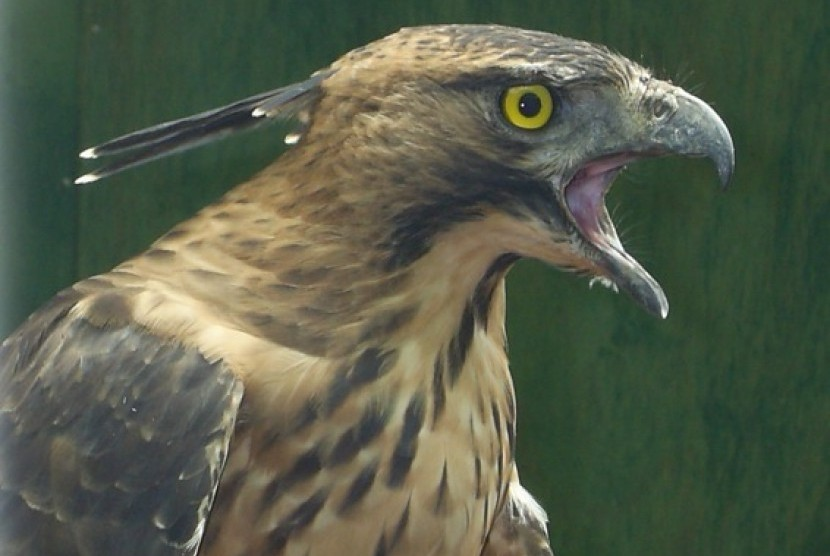Pengoyak Daging: (563, 44, 745, 332)
